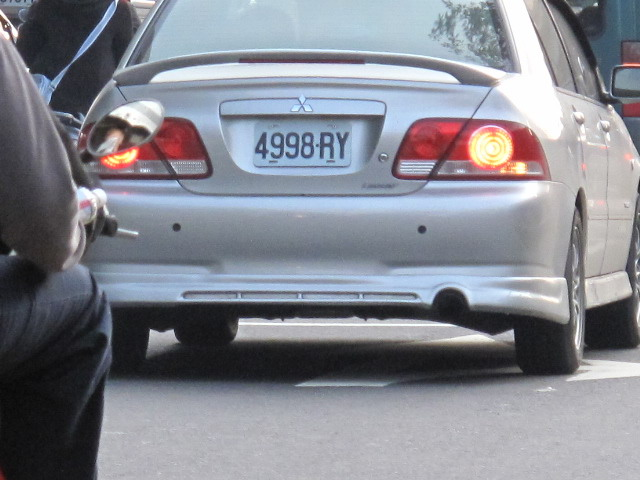plate: (249, 120, 354, 170)
